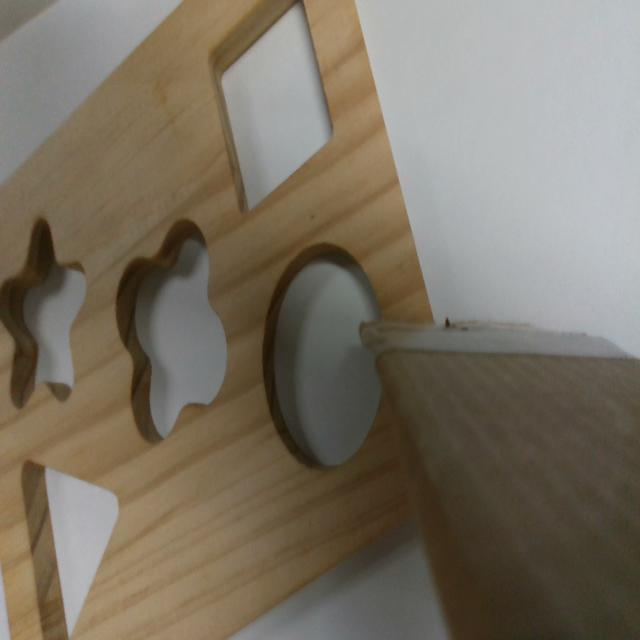circle: (264, 242, 385, 468)
flower: (113, 215, 225, 440)
square: (206, 3, 336, 213)
star: (0, 213, 86, 402)
triangle: (20, 457, 120, 636)
